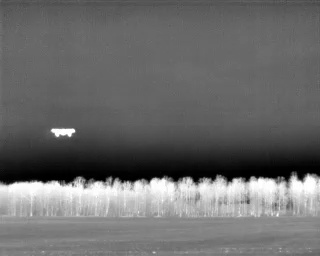DRONE: (46, 123, 79, 142)
